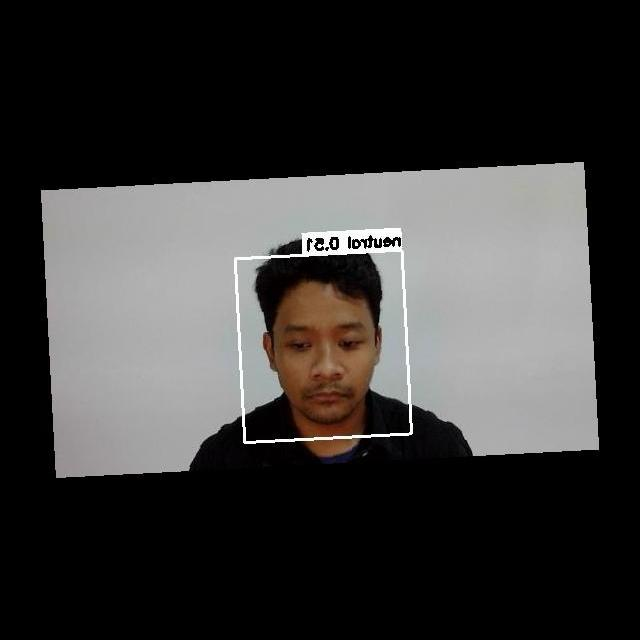Natural: (267, 304, 379, 408)
